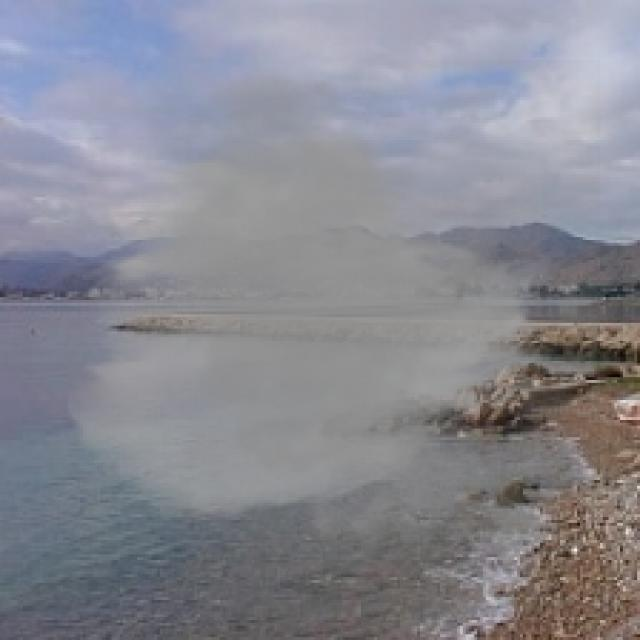Smoke: (63, 60, 600, 577)
